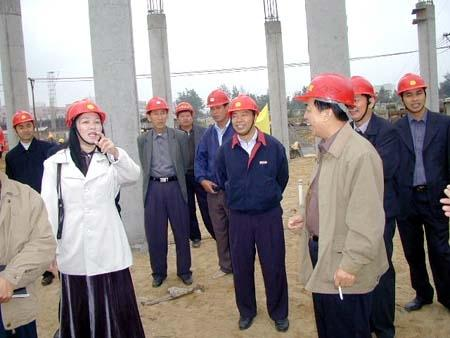helmet: (294, 72, 356, 108), (64, 100, 107, 126), (396, 72, 430, 94), (351, 74, 379, 97), (230, 94, 261, 113), (205, 89, 231, 108), (11, 109, 37, 126), (144, 95, 169, 112), (175, 102, 194, 114)
no_wear: (309, 143, 382, 283), (45, 154, 120, 263), (396, 116, 450, 196), (140, 129, 179, 179)
wear: (220, 137, 279, 211)
